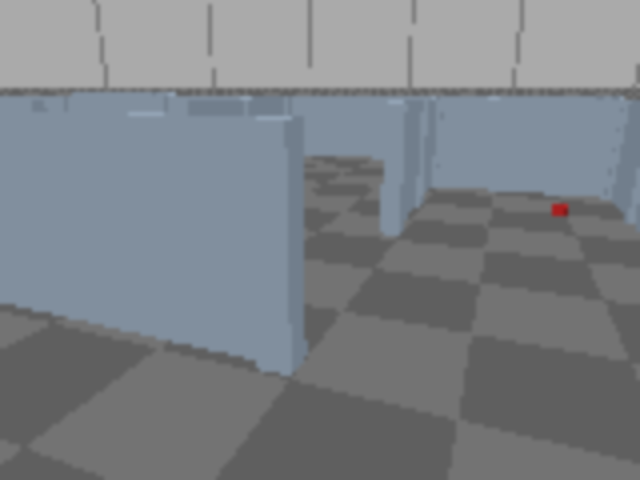puck: (550, 202, 568, 218)
